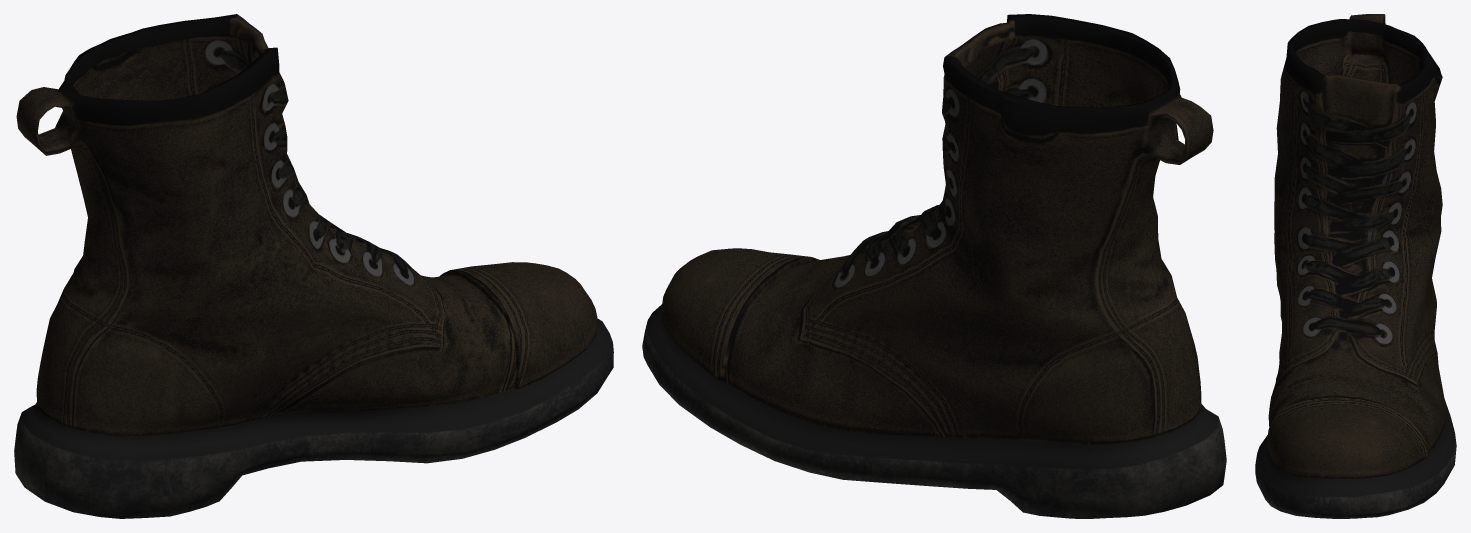
The model's file is Bota_full.fbx.
3 renders of one model, left to right at view 1: azimuth 30°, elevation 25°; view 2: azimuth 150°, elevation 25°; view 3: azimuth 270°, elevation 25°, orthographic. The views are drawn at different scales.
Visible parts, largest first — view 1: LP1_Group26993, Punta; view 2: LP1_Group26993, Punta; view 3: LP1_Group26993, Punta.
Boxes of the visible parts, x1,y1,x2,y2 form: LP1_Group26993: [14, 14, 613, 518]; Punta: [439, 262, 597, 389]; LP1_Group26993: [642, 14, 1226, 518]; Punta: [661, 248, 819, 380]; LP1_Group26993: [1255, 14, 1456, 518]; Punta: [1267, 395, 1428, 478].
Size of the model in its own units: 19.91 by 14.35 by 7.68.
